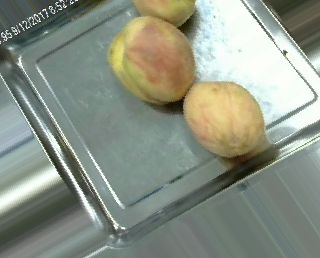Peach: (107, 15, 196, 105), (185, 80, 265, 156)
